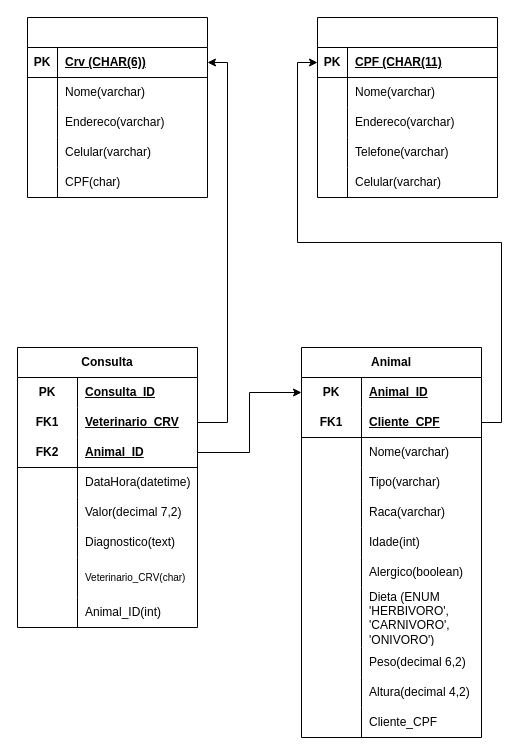
This 527x755 diagram has some shape labels left out. Each missing label, with the box of its shape:
Cliente: (316, 16, 498, 198)
Veterinario: (26, 16, 208, 198)
